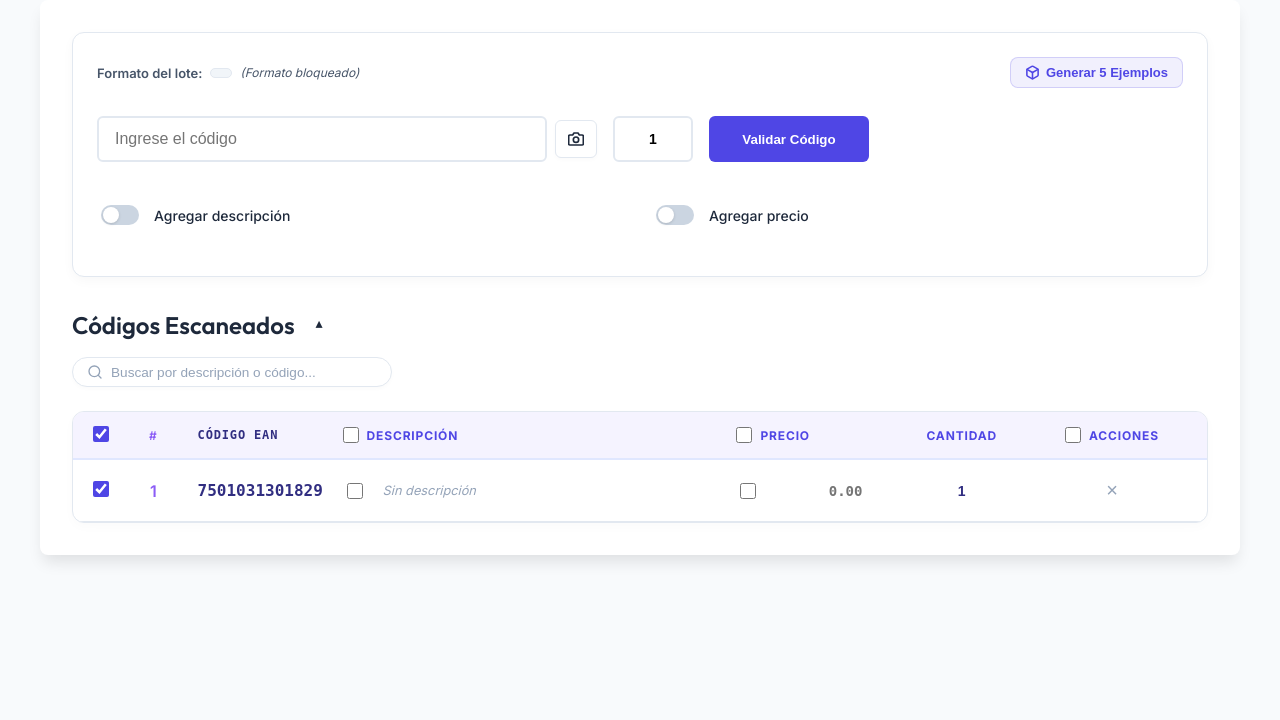
Pruebas de Límites SaaS en BarcodeForm › Smart Accordion and Responsive Mobile Card rendering › debe expandir la lista por defecto y colapsar/expandir al hacer clic en el botón del acordeón
This screenshot has width=1280, height=720.
Al hacer clic, se debe colapsar y el título del botón cambia a "Expandir lista"
Click the button titled "Colapsar lista".
click(318, 325)  # box x1=302 y1=309 x2=334 y2=341
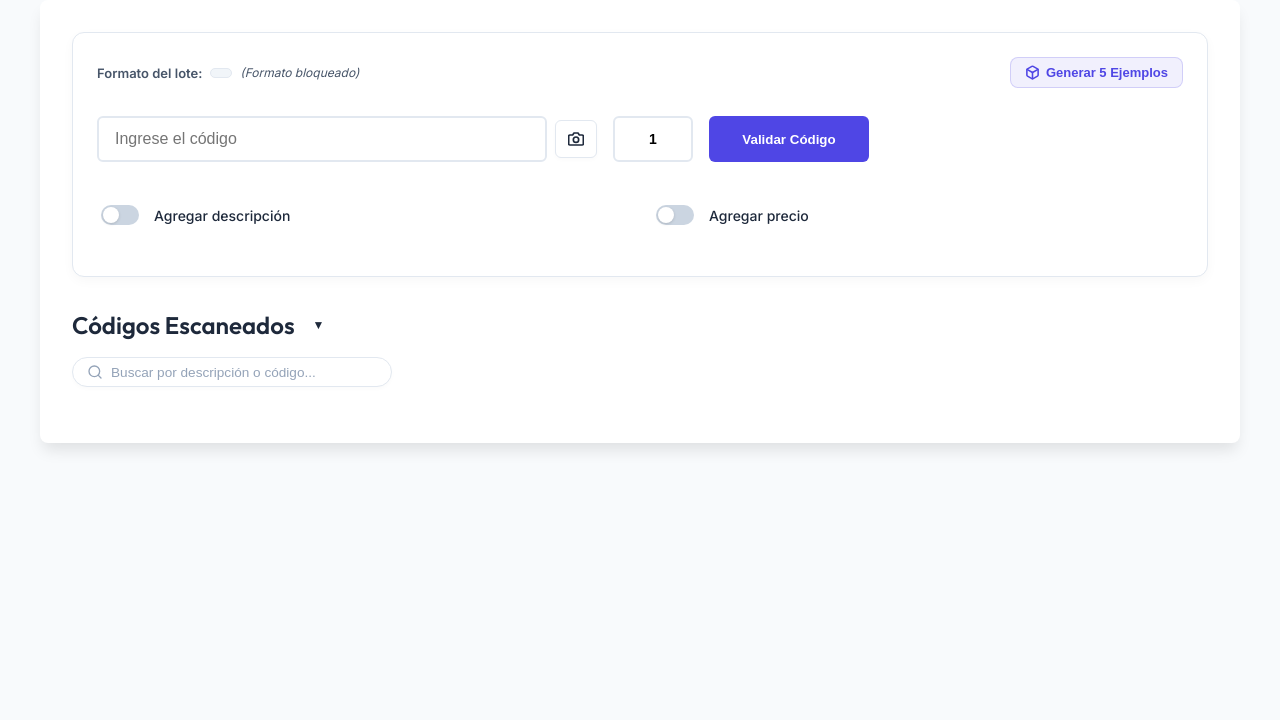
Result: the button titled "Expandir lista" is shown
Al hacer clic de nuevo, se debe expandir y volver a "Colapsar lista"
Click the button titled "Expandir lista".
click(318, 325)  # box x1=302 y1=309 x2=334 y2=341
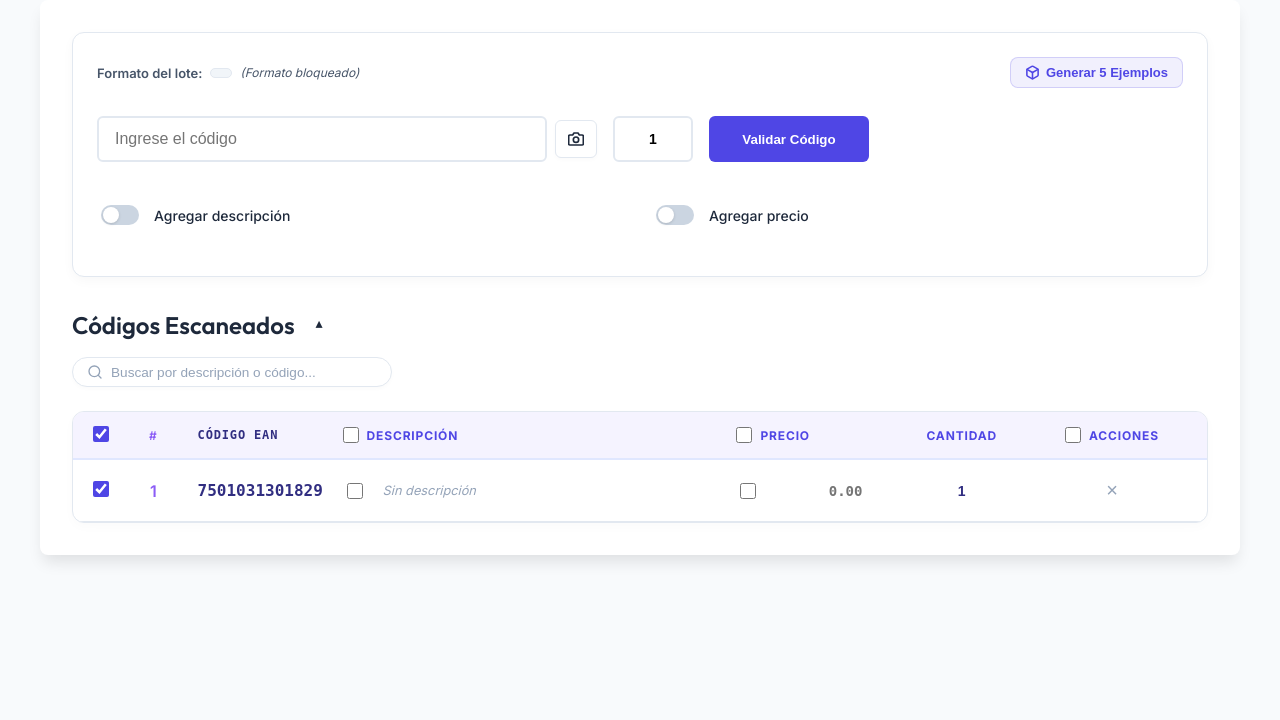
Result: the button titled "Colapsar lista" is shown at x1=302 y1=309 x2=334 y2=341
